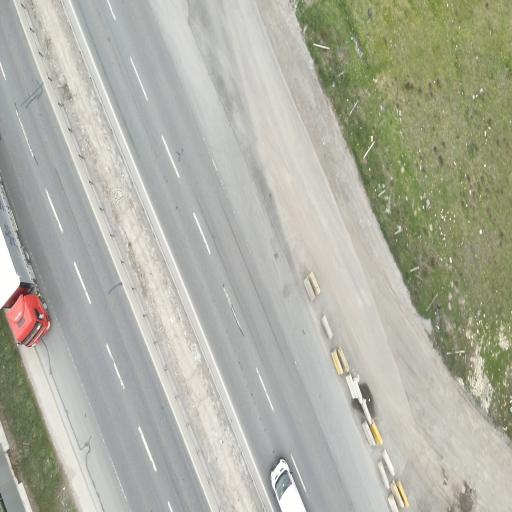car: (270, 458, 306, 512)
truck: (0, 180, 51, 346)
